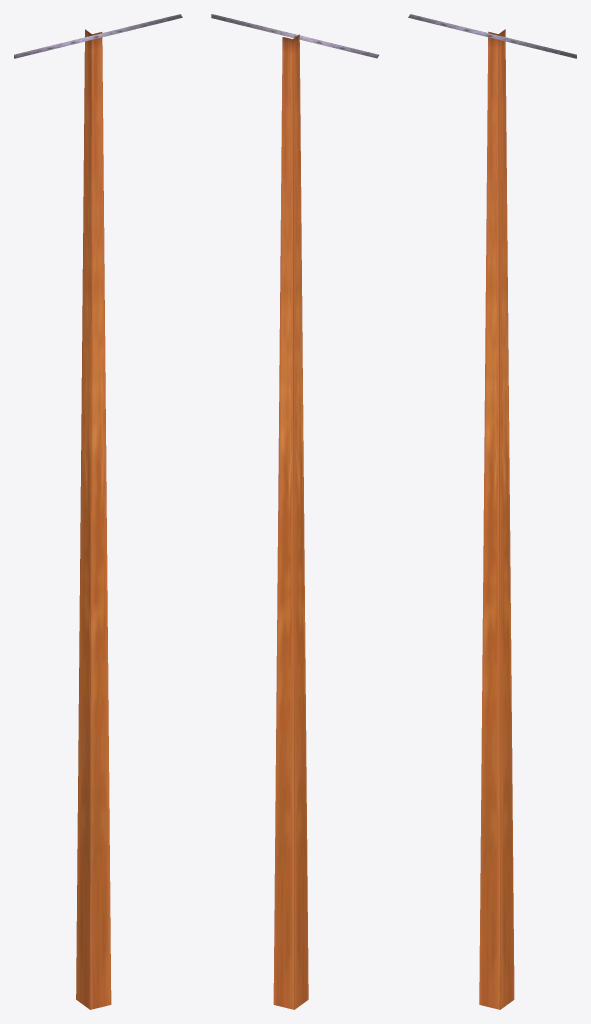
The model's file is ELEC_POLE08.glb.
The picture shows the model from 3 angles, left to right: view 1: azimuth 30°, elevation 25°; view 2: azimuth 150°, elevation 25°; view 3: azimuth 330°, elevation 25°; orthographic projection.
Visible parts, largest first — view 1: ELEC_POLE08; view 2: ELEC_POLE08; view 3: ELEC_POLE08.
Boxes of the visible parts, <box> form: ELEC_POLE08: <box>14,14,182,1009</box>; ELEC_POLE08: <box>211,14,378,1009</box>; ELEC_POLE08: <box>408,14,576,1009</box>.
Size of the model in its own units: 345 by 1921 by 50.76.
Materials: 1 (1 with a texture image).
